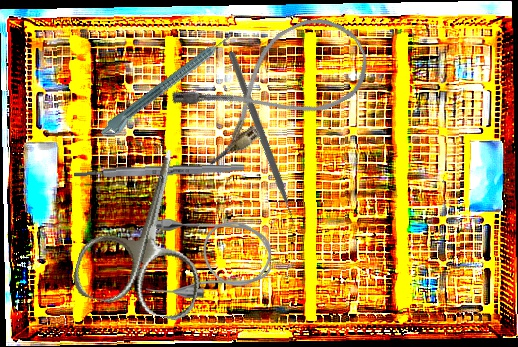Cannula: (167, 1, 382, 171), (146, 219, 271, 298)
Chopper: (162, 50, 355, 236)
Handpiece: (97, 31, 239, 143)
Iris Scissors: (69, 134, 231, 325)
Scalpel Handle: (73, 163, 245, 179)
